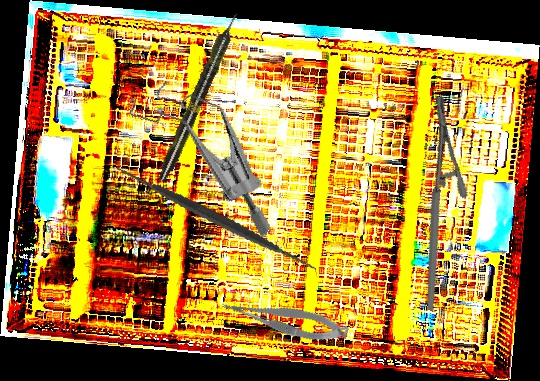Handpiece: (154, 10, 244, 184)
Micro Scissor: (219, 283, 351, 354)
Needle Holder: (360, 94, 509, 312)
Spatula Surgical: (114, 117, 319, 321)
Speculum: (100, 69, 307, 239)
